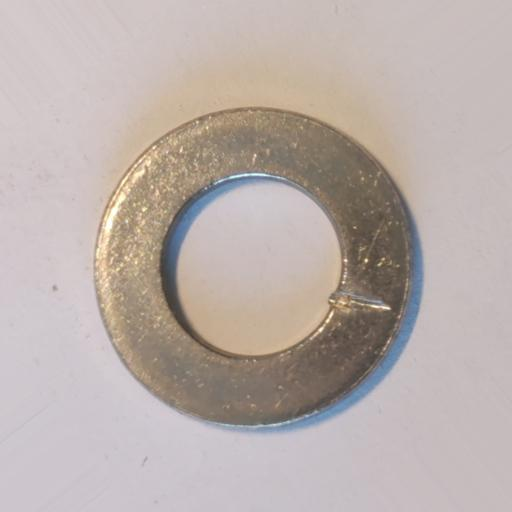scratch: (326, 289, 393, 313)
